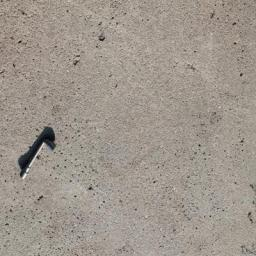FOD: (19, 126, 61, 185)
